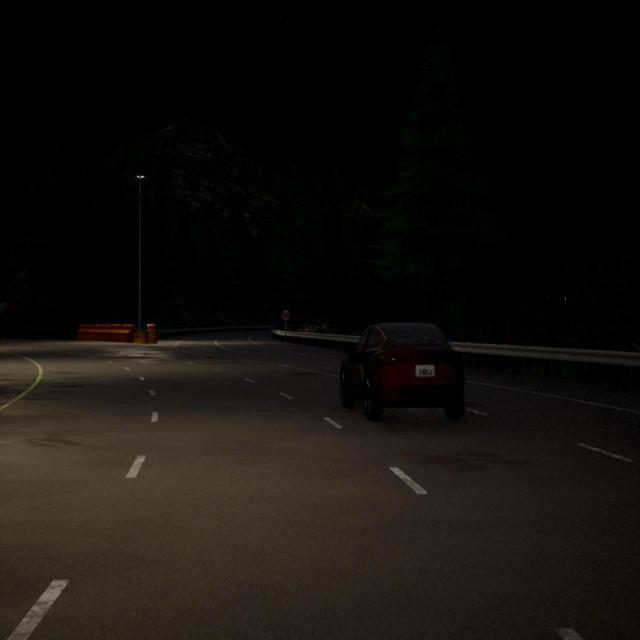Traffic_Signs: (282, 310, 290, 320)
Vehicle: (340, 323, 464, 420)
